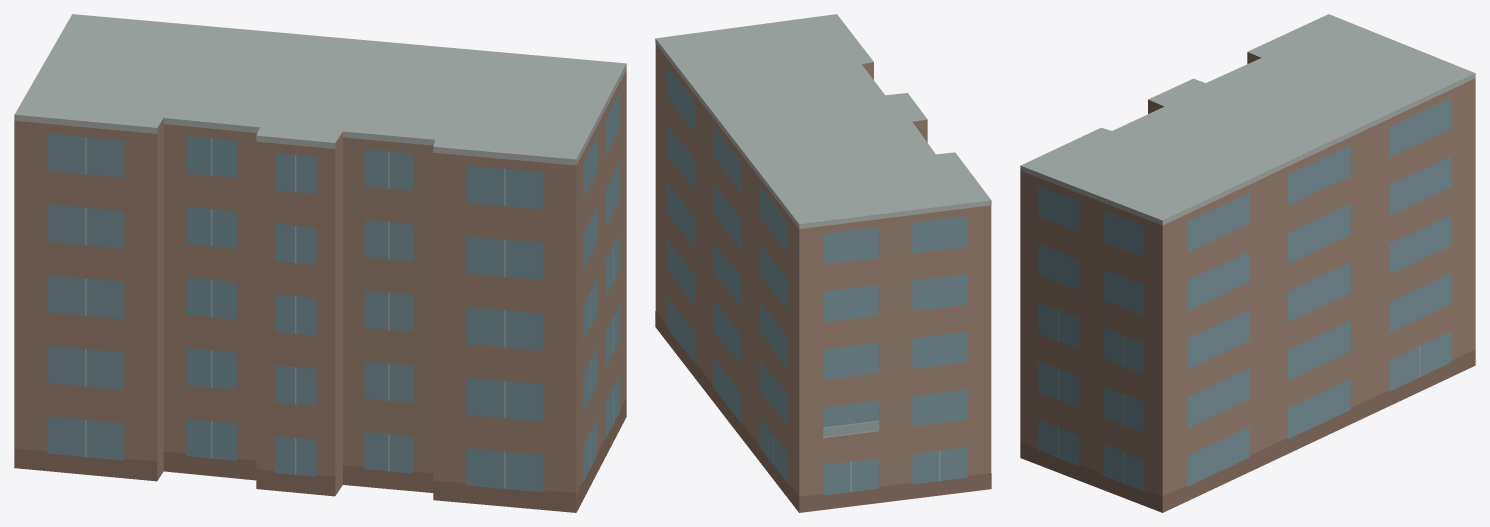
Rendered from survey-upis-33009521.glb.
The picture shows the model from 3 angles, left to right: view 1: azimuth 30°, elevation 25°; view 2: azimuth 150°, elevation 25°; view 3: azimuth 270°, elevation 25°; orthographic projection. The views are drawn at different scales.
Parts seen in each view (by area): view 1: survey-upis-33009521.tmp; view 2: survey-upis-33009521.tmp; view 3: survey-upis-33009521.tmp.
Boxes of the visible parts, x1=… form: survey-upis-33009521.tmp: x1=14, y1=14, x2=626, y2=512; survey-upis-33009521.tmp: x1=655, y1=14, x2=991, y2=512; survey-upis-33009521.tmp: x1=1020, y1=14, x2=1475, y2=512.
Bounding box in the file's own units: 21.75 × 14.35 × 20.26.
